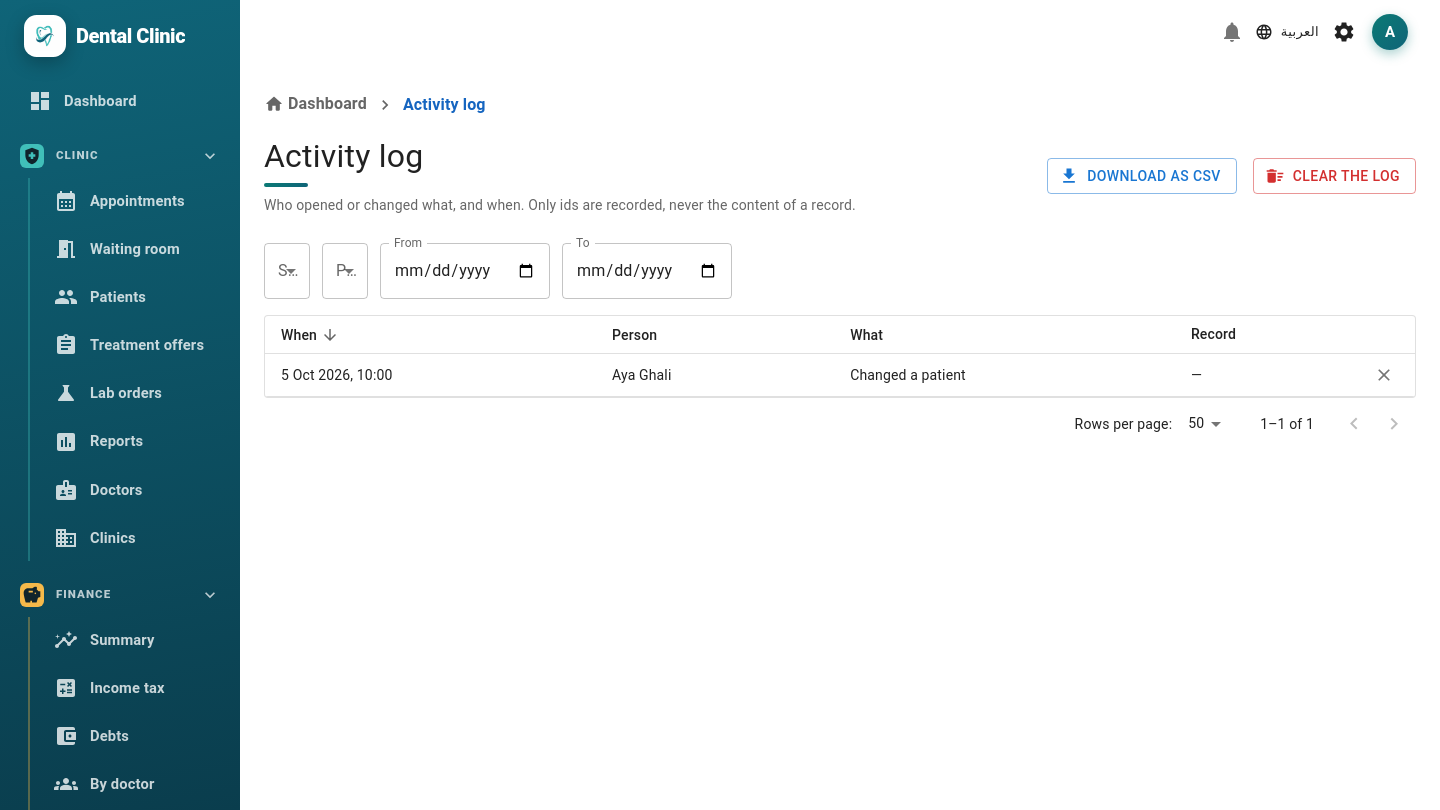
confirmations after a change › does not say anything when the change fails
Click the button named "Delete this entry": (1384, 375) [1369, 360, 1399, 390]
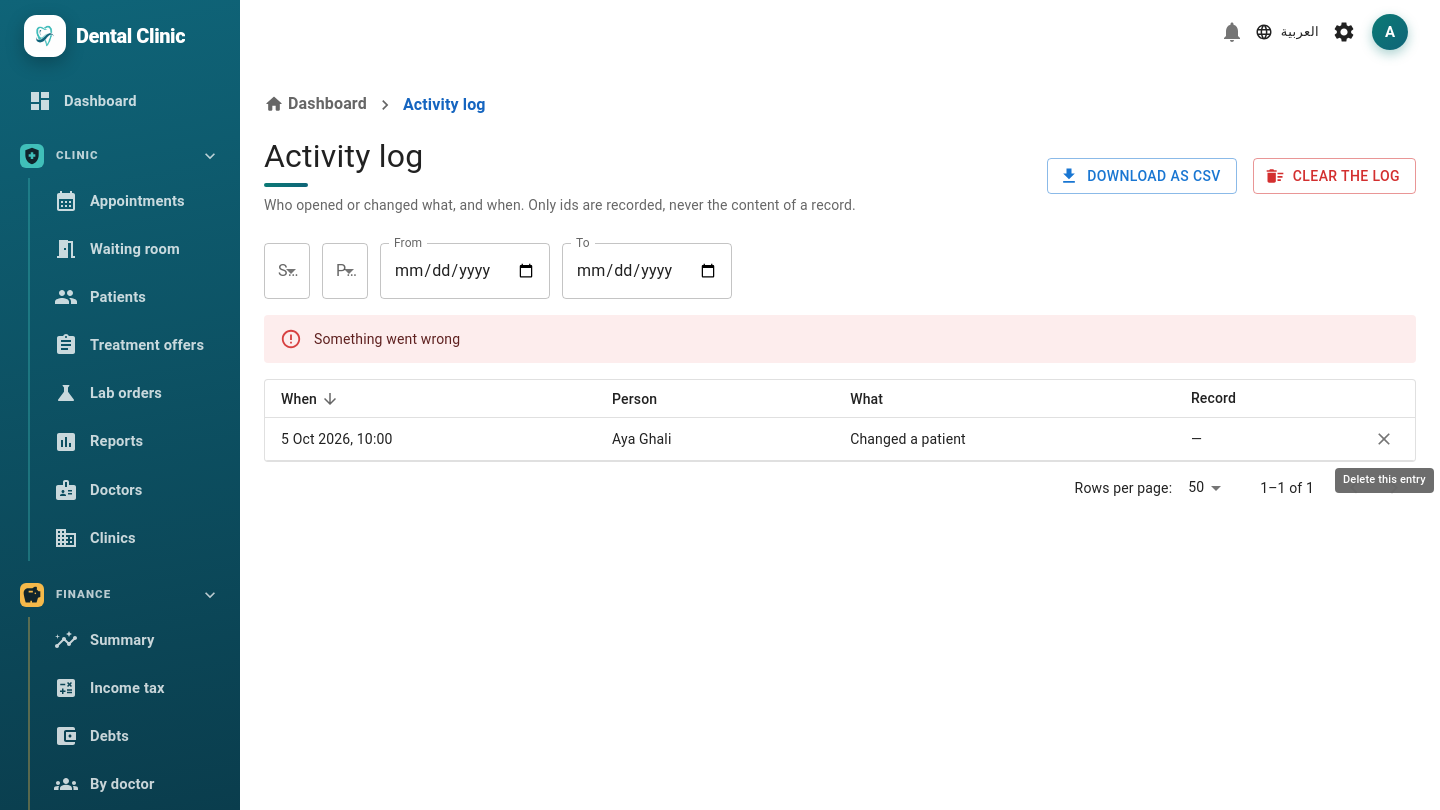
Now the message "Something went wrong" is shown, box [264, 314, 1416, 362]
